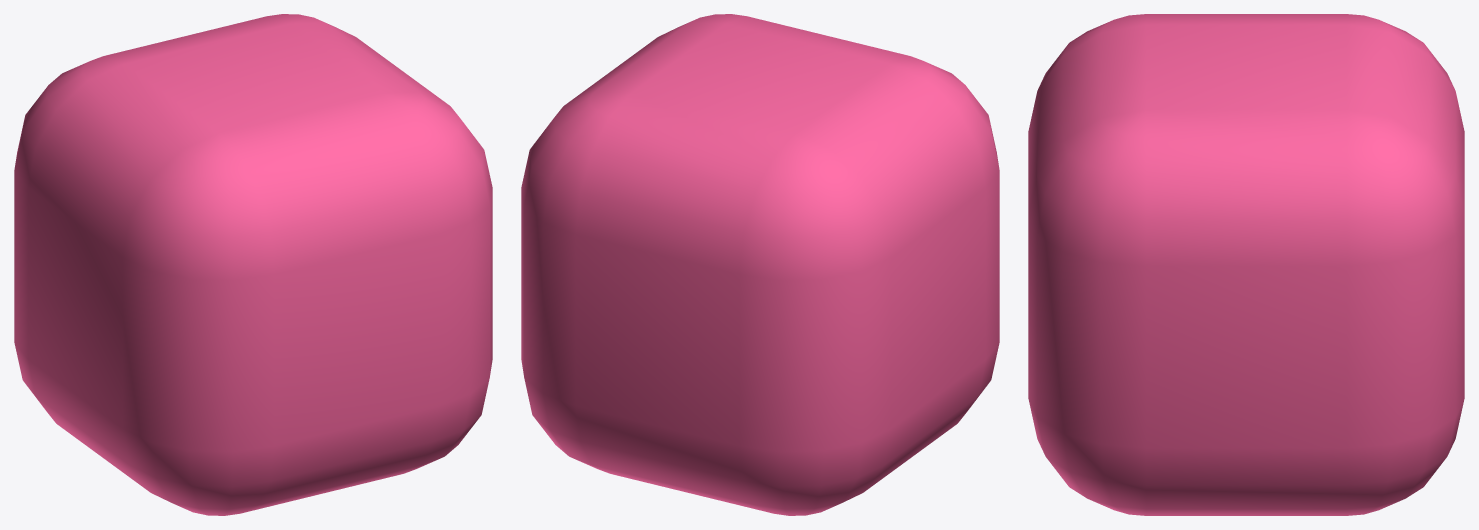
The model's file is Candy_Cube-A.FBX.
The picture shows the model from 3 angles, left to right: view 1: azimuth 30°, elevation 25°; view 2: azimuth 150°, elevation 25°; view 3: azimuth 270°, elevation 25°; orthographic projection. The views are drawn at different scales.
Parts seen in each view (by area): view 1: Candy_Cube-A; view 2: Candy_Cube-A; view 3: Candy_Cube-A.
Part boxes in pixels (x1=…): Candy_Cube-A: x1=14, y1=14, x2=492, y2=515; Candy_Cube-A: x1=521, y1=14, x2=999, y2=515; Candy_Cube-A: x1=1028, y1=14, x2=1464, y2=515.
Size of the model in its own units: 1260 by 1260 by 1260.
